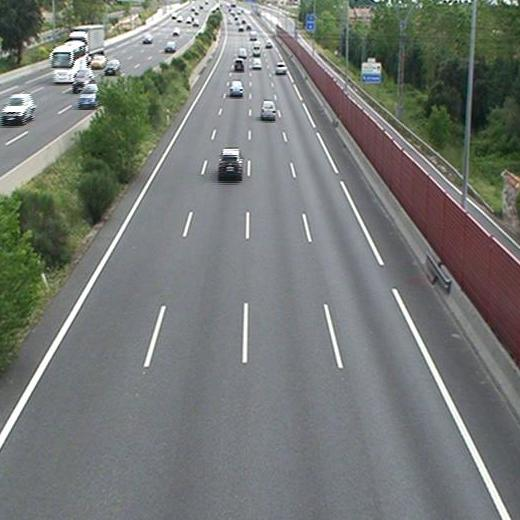car: (218, 150, 243, 175), (260, 100, 276, 118), (229, 80, 243, 95), (275, 63, 287, 74), (233, 59, 245, 70), (250, 58, 261, 68), (237, 48, 247, 58)
van: (251, 42, 262, 56)
